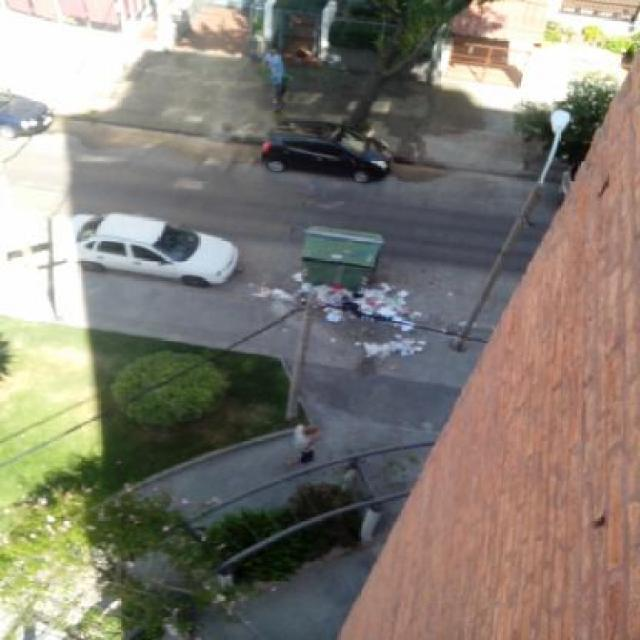garbage: (285, 279, 418, 324)
